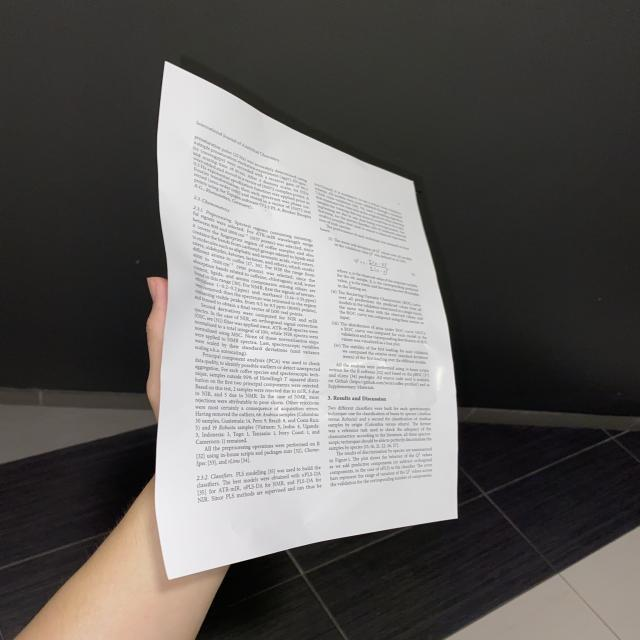document: (157, 64, 457, 578)
